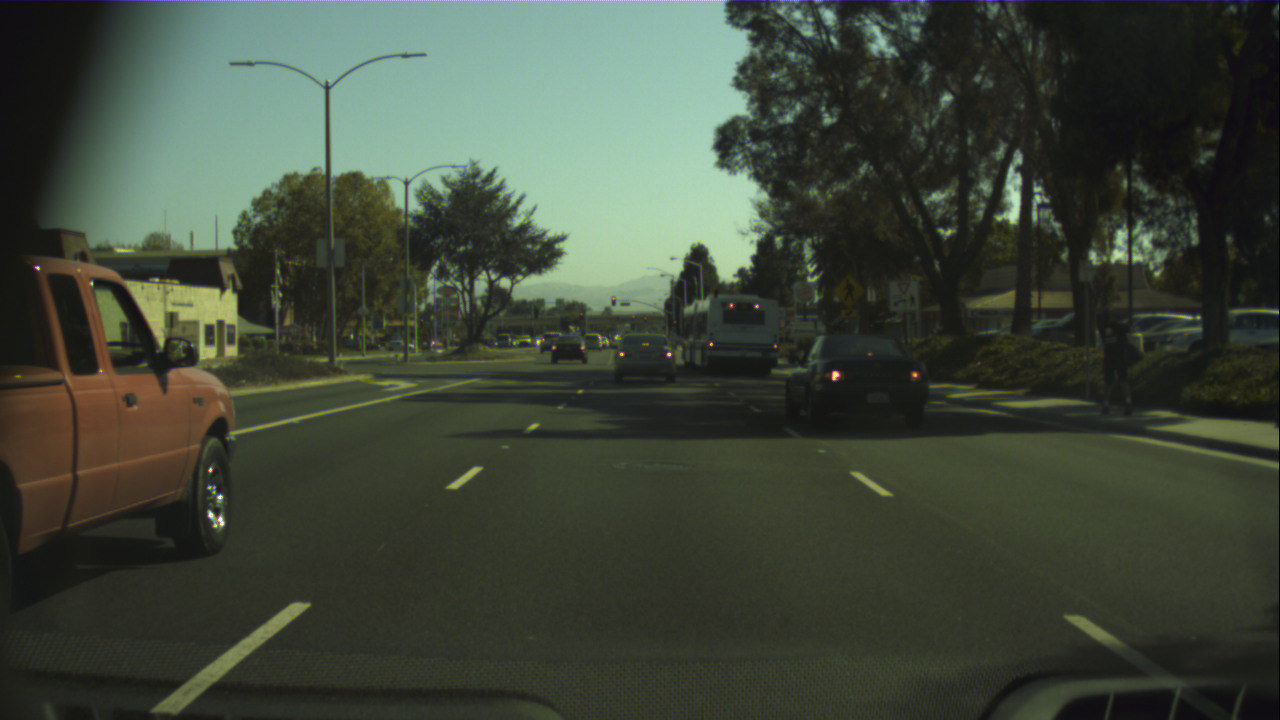Red: (579, 311, 584, 321), (611, 295, 615, 305)
